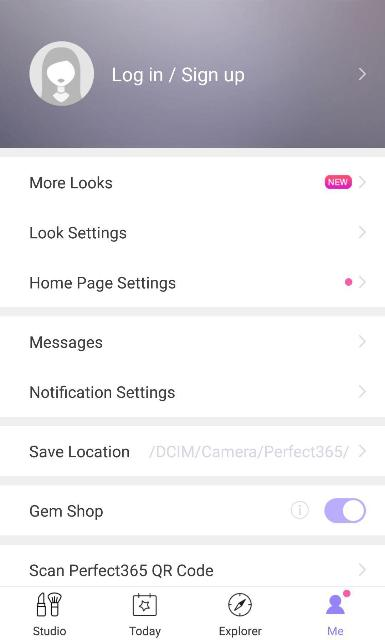Bottom_Navigation: (0, 586, 385, 640)
Icon: (30, 42, 94, 106), (36, 592, 62, 616), (133, 592, 157, 616), (228, 594, 251, 616), (326, 594, 345, 614), (291, 501, 309, 519), (358, 563, 366, 575), (358, 444, 366, 456), (358, 385, 366, 397), (358, 335, 366, 347), (358, 276, 366, 288), (358, 226, 366, 238), (358, 68, 366, 80), (360, 176, 366, 188)
List: (0, 156, 385, 306), (0, 316, 385, 417)
Switch: (324, 498, 366, 522)
Text: (149, 444, 349, 458), (29, 564, 213, 578), (113, 66, 245, 85), (30, 276, 176, 292), (30, 385, 174, 401), (30, 226, 126, 242), (29, 445, 129, 457), (30, 504, 103, 520), (30, 336, 102, 352), (30, 176, 112, 188), (220, 626, 262, 638), (130, 626, 160, 638), (33, 626, 66, 636), (328, 626, 344, 636), (329, 179, 347, 185)
TextButton: (326, 175, 352, 189)
TextImageButton: (220, 593, 262, 637), (33, 592, 66, 636), (130, 592, 160, 638), (326, 594, 345, 636)
